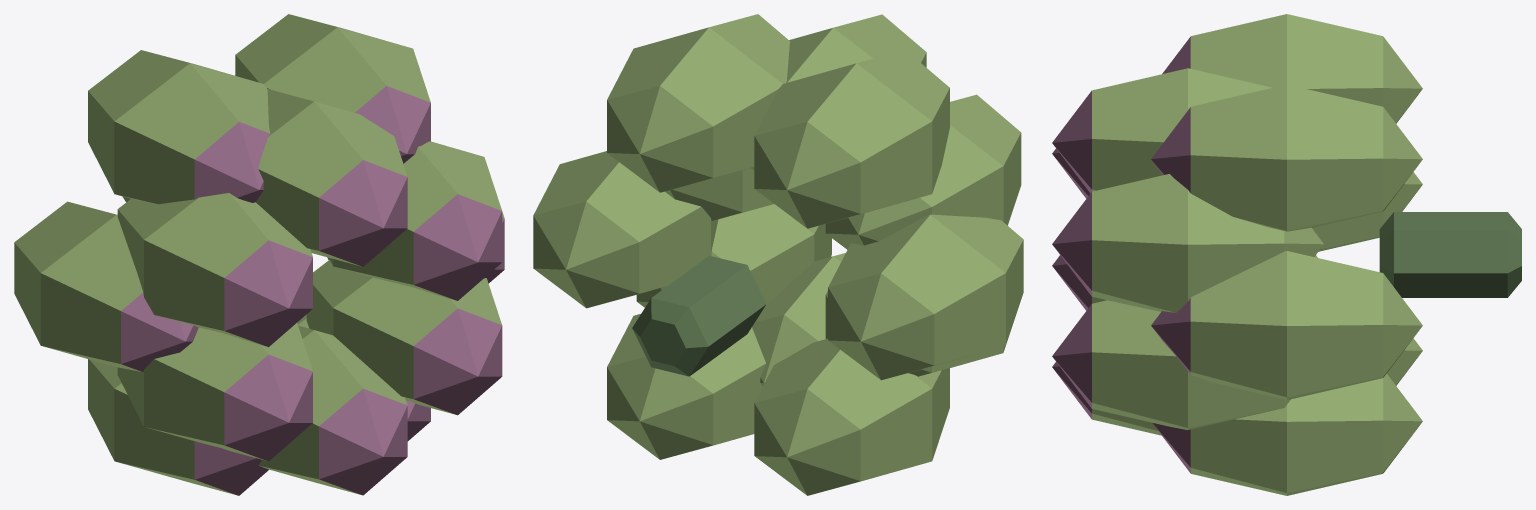
File: artichoke.glb
3 renders of one model, left to right at view 1: azimuth 30°, elevation 25°; view 2: azimuth 150°, elevation 25°; view 3: azimuth 270°, elevation 25°, orthographic.
Visible parts, largest first — view 1: artichoke; view 2: artichoke; view 3: artichoke.
Boxes of the visible parts, bbox=[...] form: artichoke: bbox=[14, 14, 504, 495]; artichoke: bbox=[533, 14, 1023, 495]; artichoke: bbox=[1052, 14, 1521, 495].
Bounding box in the file's own units: 0.0817 × 0.0734 × 0.076.
